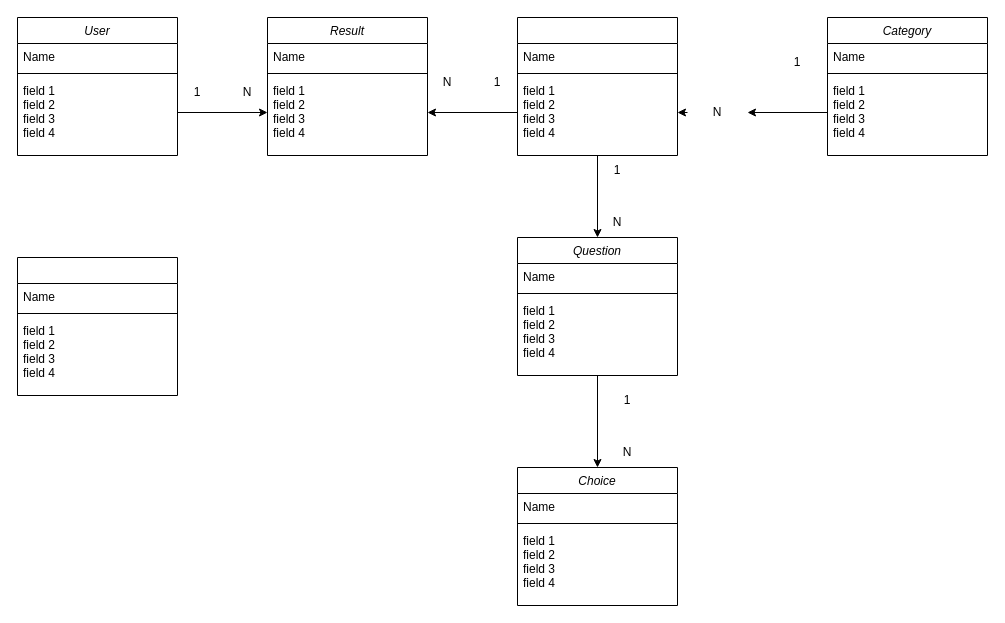
Some shapes in this 1005 by 623 pixel diagram are drawn without their labels. The shapes that lost their labels are listed below. From the top down, each one's box as (x1, y1, x2, y2) in pixels, then its label:
(516, 16, 678, 156): Quiz
(16, 256, 178, 396): Profile
